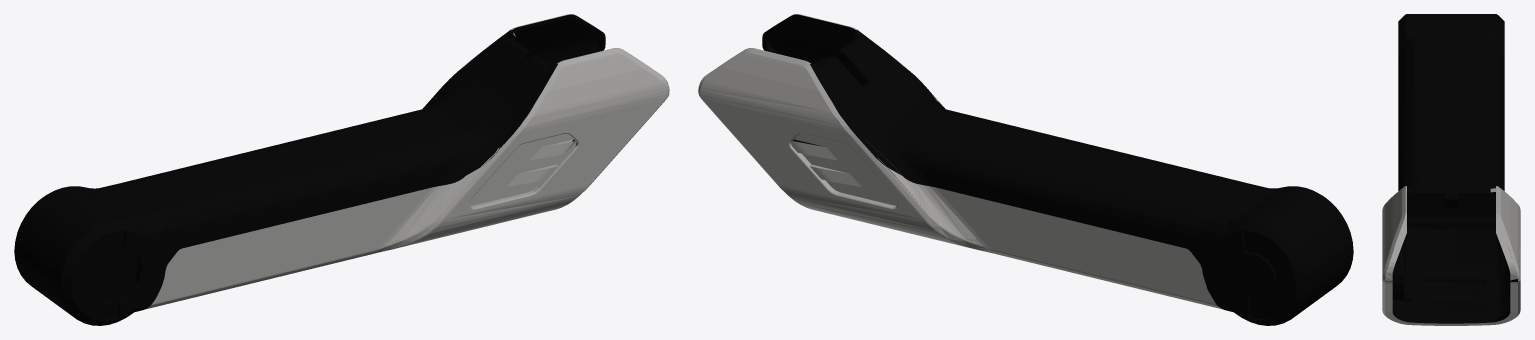
Rendered from right_arm_link2.usd.sapien.glb.
The picture shows the model from 3 angles, left to right: view 1: azimuth 30°, elevation 25°; view 2: azimuth 150°, elevation 25°; view 3: azimuth 270°, elevation 25°; orthographic projection. The views are drawn at different scales.
Visible parts, largest first — view 1: right_arm_link2; view 2: right_arm_link2; view 3: right_arm_link2.
Part boxes in pixels (bbox=[...]): right_arm_link2: bbox=[14, 14, 669, 325]; right_arm_link2: bbox=[698, 14, 1353, 325]; right_arm_link2: bbox=[1382, 14, 1520, 325].
Size of the model in its own units: 0.4319 by 0.1058 by 0.088.
1 material, 1 textured.
